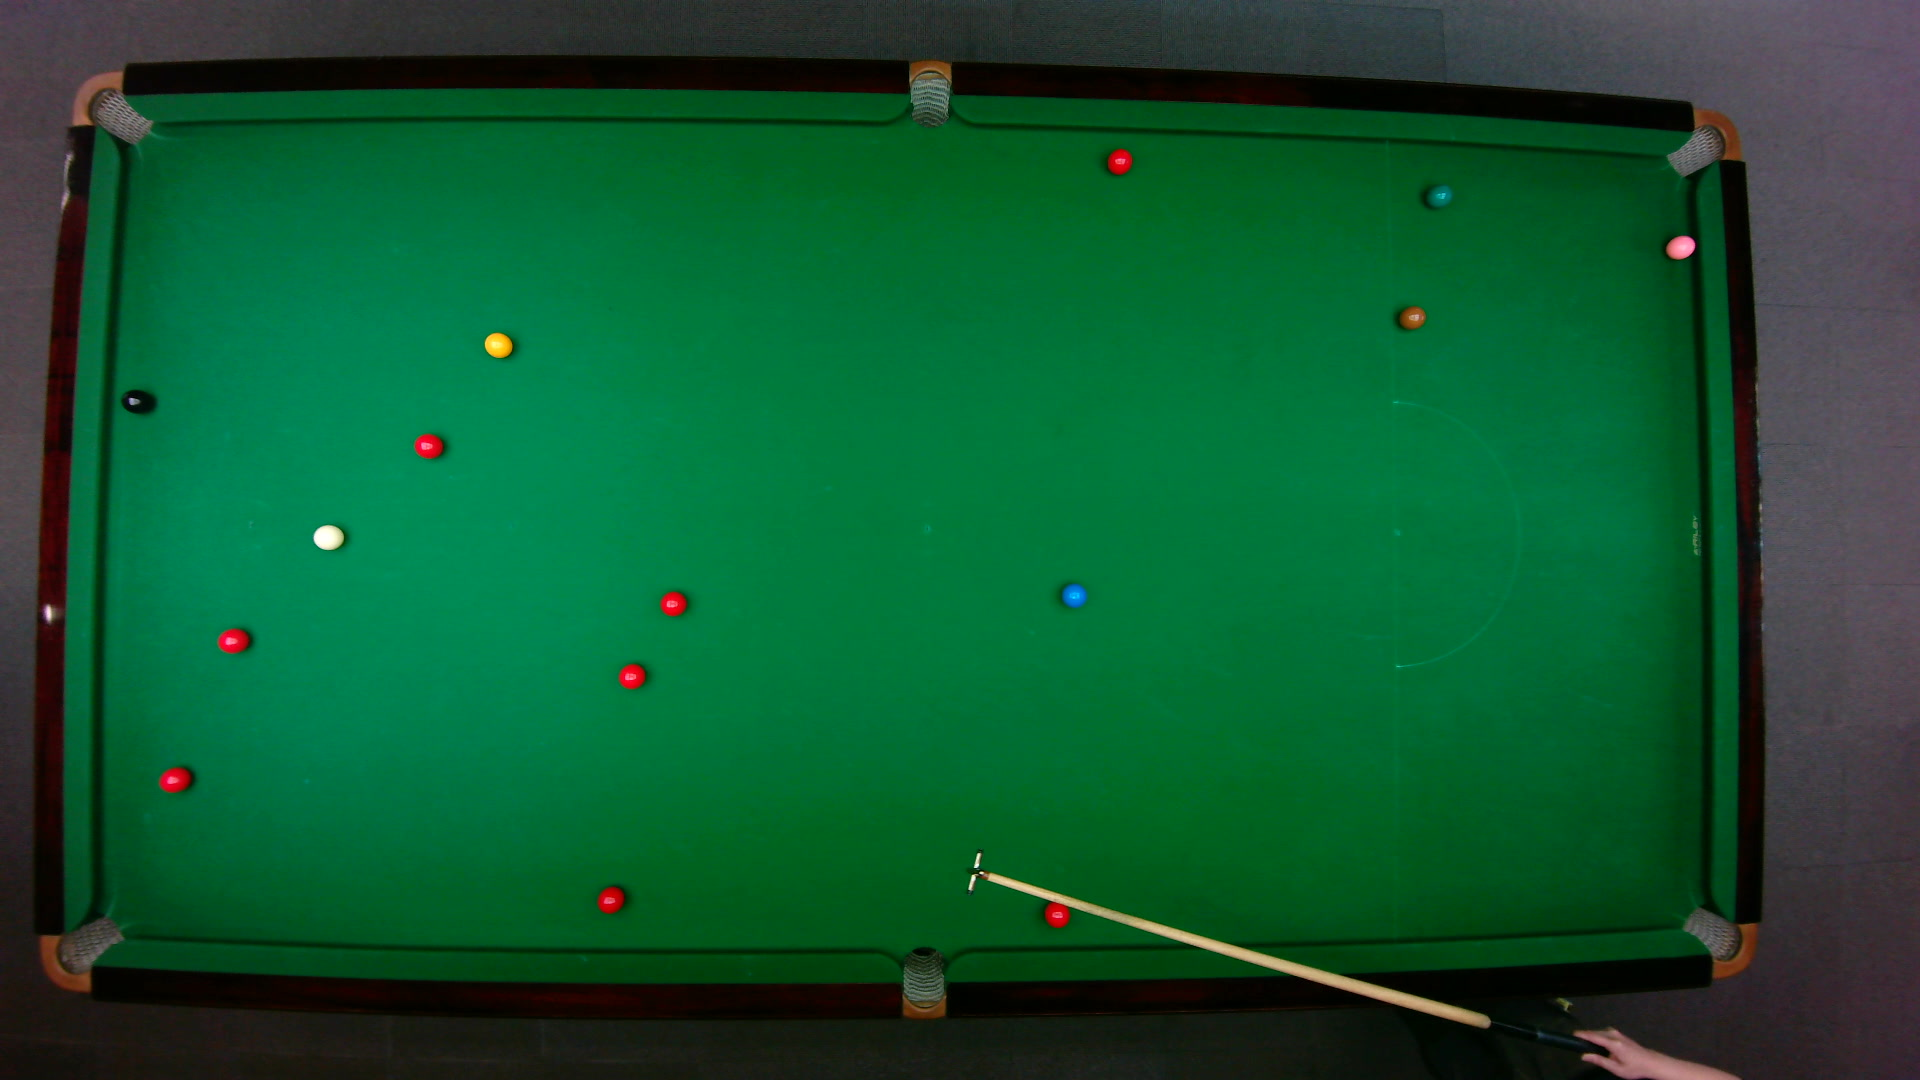bag: (37, 913, 125, 992), (69, 69, 152, 145), (1679, 905, 1756, 978), (1663, 107, 1741, 177), (901, 944, 944, 1021), (909, 57, 949, 128)
black: (117, 386, 152, 414)
blue: (1059, 582, 1087, 608)
brown: (1396, 305, 1427, 330)
green: (1422, 182, 1453, 208)
pink: (1663, 232, 1697, 260)
red: (156, 765, 193, 793), (215, 626, 251, 653), (595, 884, 625, 914), (411, 431, 444, 459), (615, 661, 646, 688), (657, 589, 687, 617), (1105, 146, 1133, 175), (1042, 903, 1069, 927)
white: (310, 522, 345, 551)
yellow: (481, 328, 514, 357)
zone: (1390, 400, 1520, 669)
